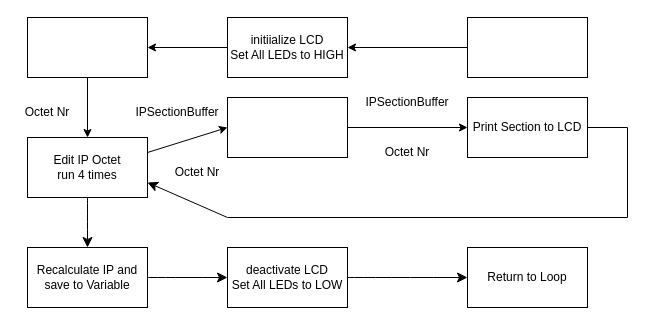
Some shapes in this 655 by 325 pixel diagram are drawn without their labels. Here are the shapes that lost their labels. From the top down, the centre of each, then its label:
the point at 87,47: Run Function to determine which IP to edit
the point at 527,47: Edit Mode
the point at 287,127: Edit Subsection
